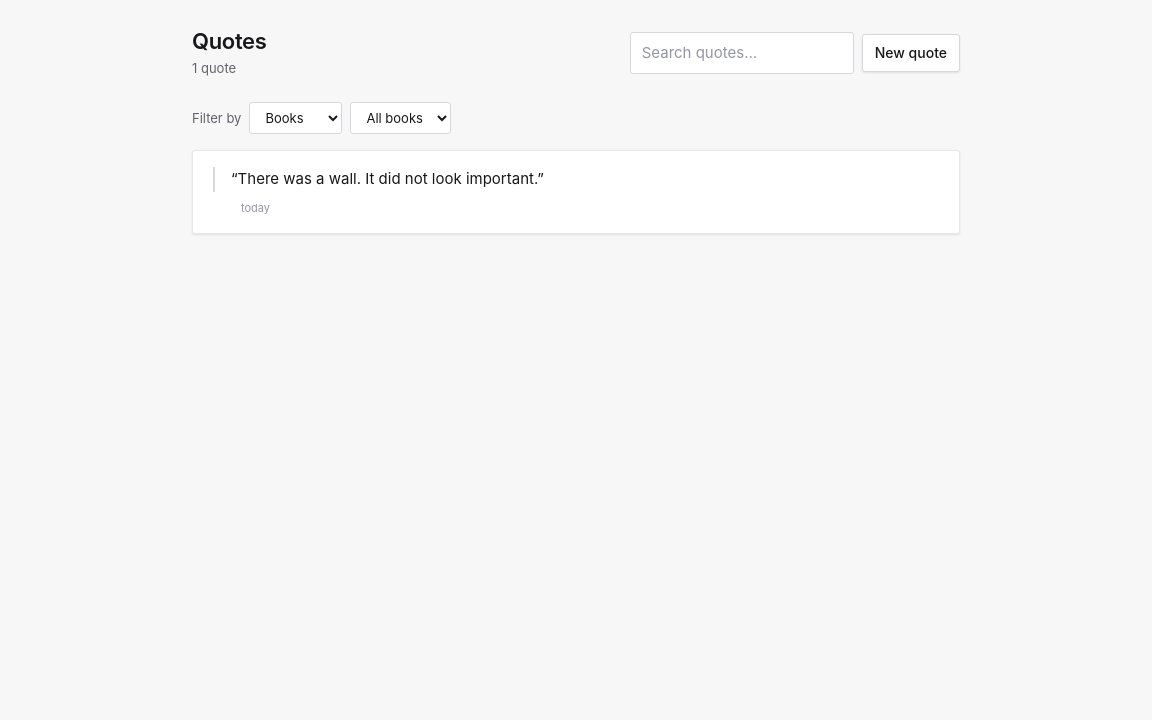
Scenario: the Quotes screen › accurately warns when discarding an unsaved quote with a selected book
The width and height of the screenshot is (1152, 720).
Click the button "New quote" at (911, 53), box top-left (862, 34), bottom-right (960, 72)
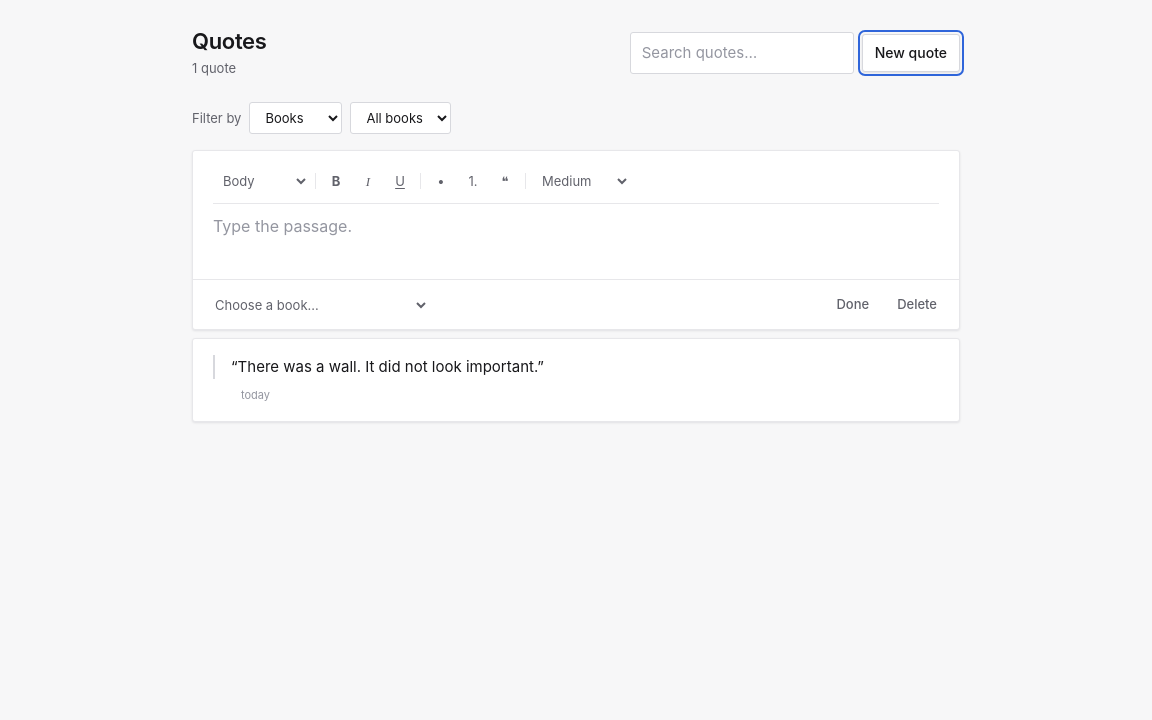
Select "The Dispossessed · Ursula K. Le Guin" in the dropdown named "Book this quote is from" at (317, 305), box top-left (205, 291), bottom-right (429, 319)
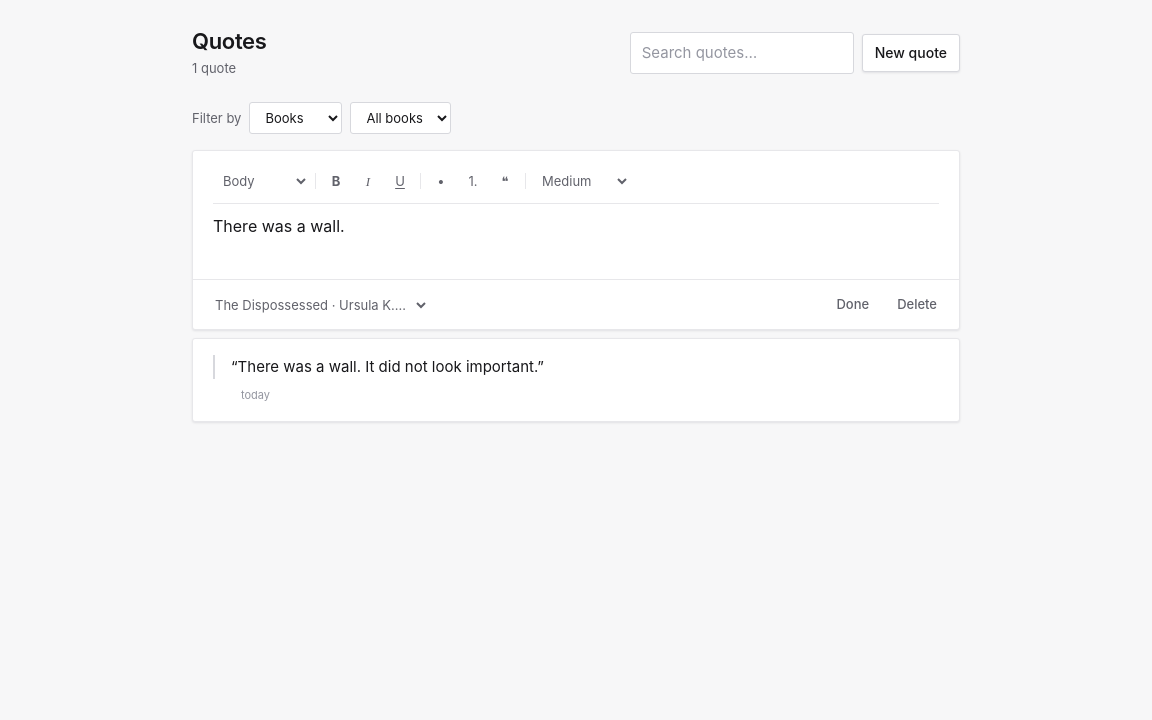
Click the button "Delete" at (917, 305), box top-left (887, 288), bottom-right (947, 321)
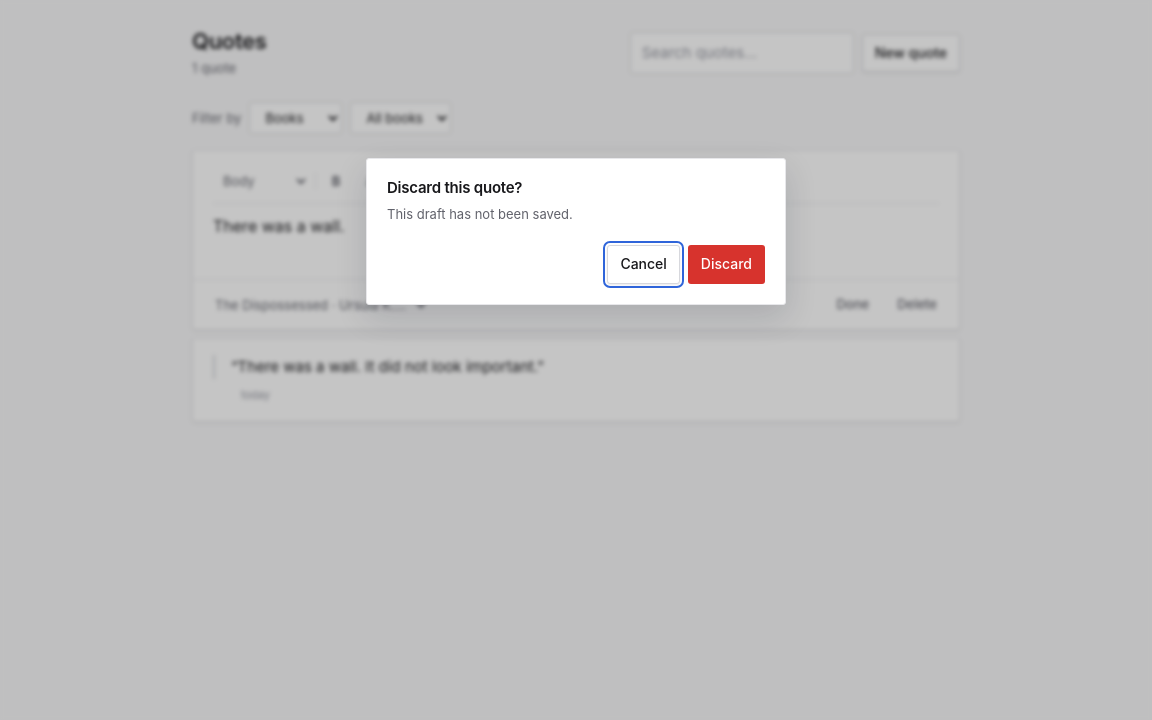
expect the heading "Discard this quote?" is shown: met, box top-left (387, 178), bottom-right (522, 197)
expect the text "This draft has not been saved." is shown: met, box top-left (387, 206), bottom-right (573, 222)
